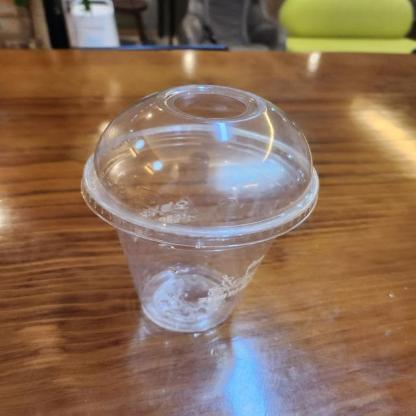Plastic Cup: (84, 82, 320, 332)
